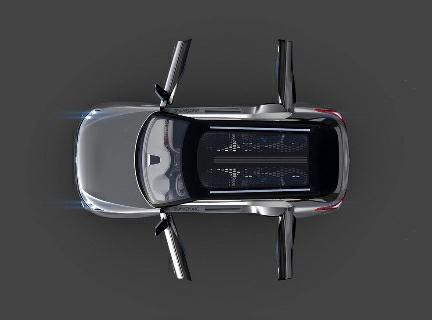双龙-途凌: (65, 93, 358, 224)
